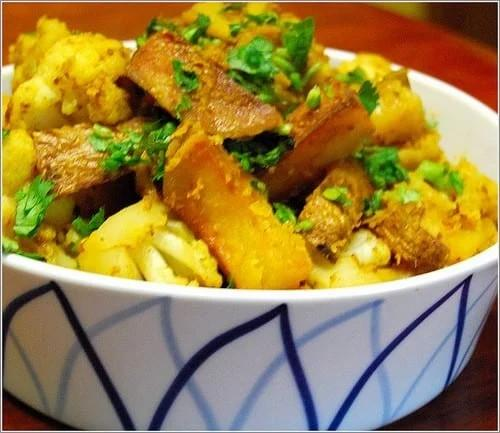AlooGobi: (2, 4, 499, 289)
